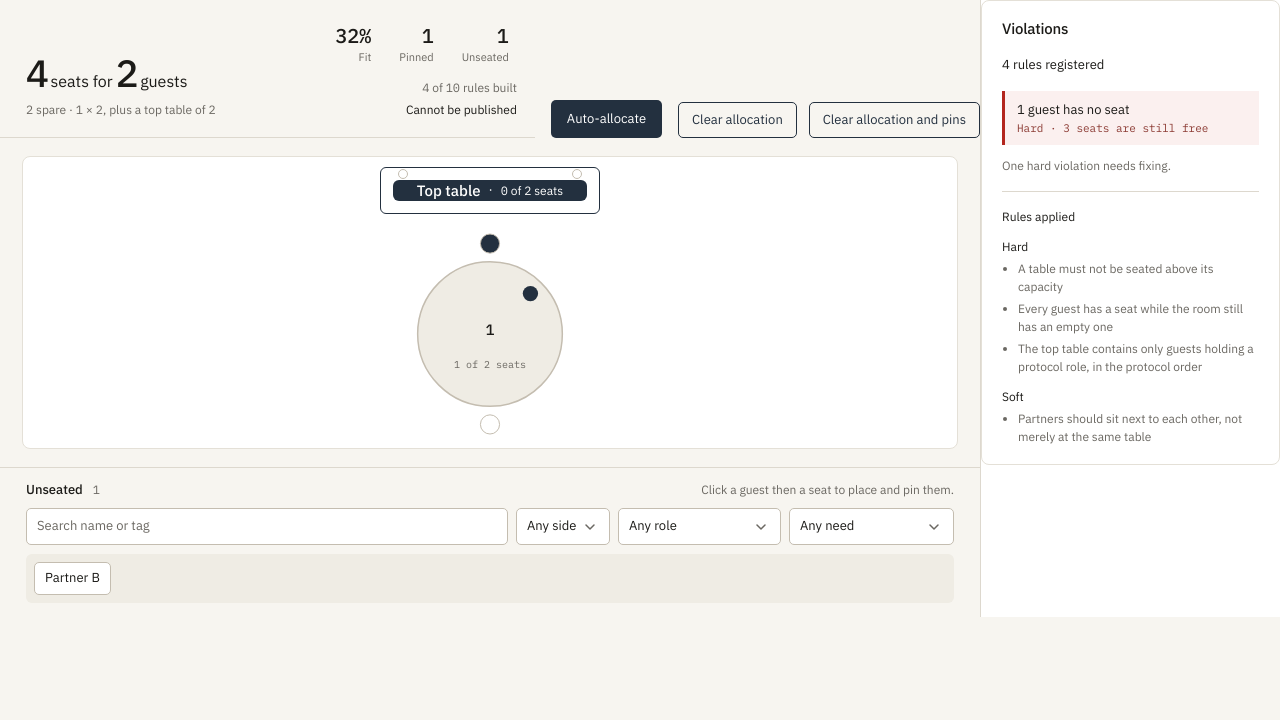
Scenario: placing a guest changes the score shown in the header with no further interaction › placing the second half of a partner pair moves a real, non-null score from 32 toward 100 (TT-46, TT-47, TT-48)
The width and height of the screenshot is (1280, 720).
expect the button "32% Fit" is shown: met, box left=327, top=22, right=379, bottom=71
Step 1. Click the button "Partner B" → (72, 579), box left=34, top=562, right=111, bottom=595
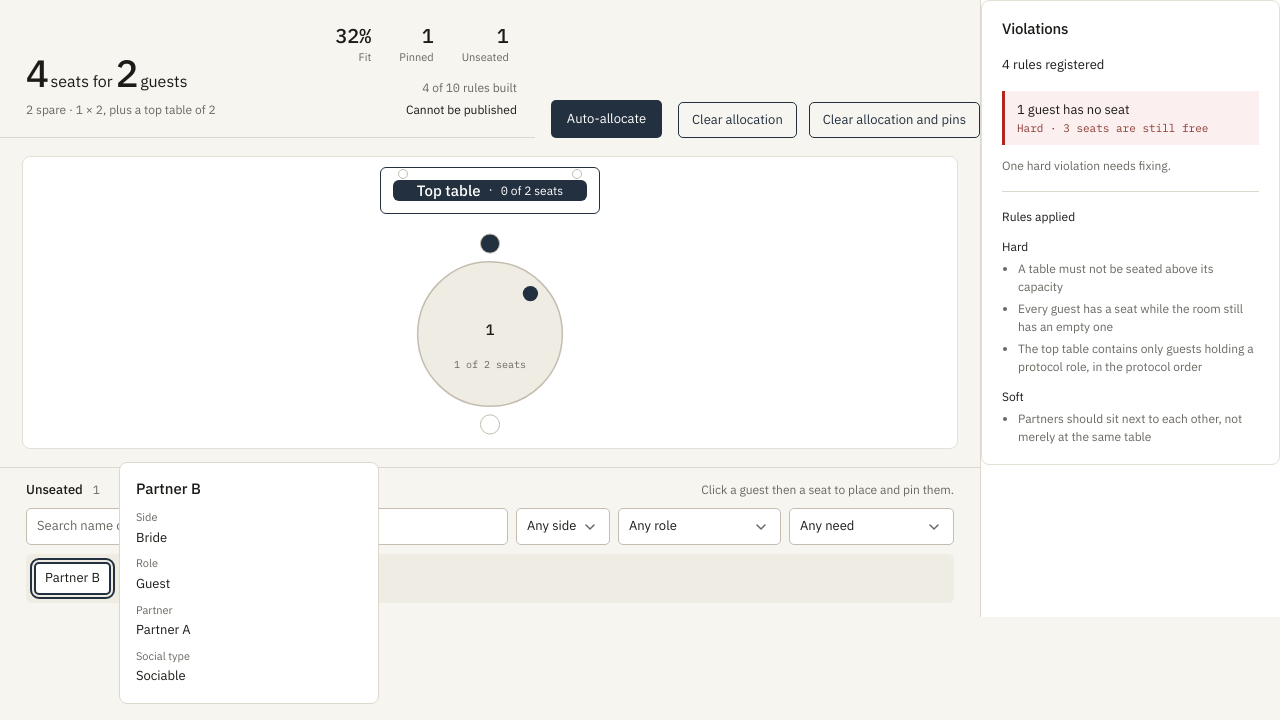
Step 2. Click the button named "Place Partner B at Table 1" → (490, 334), box left=390, top=234, right=590, bottom=434
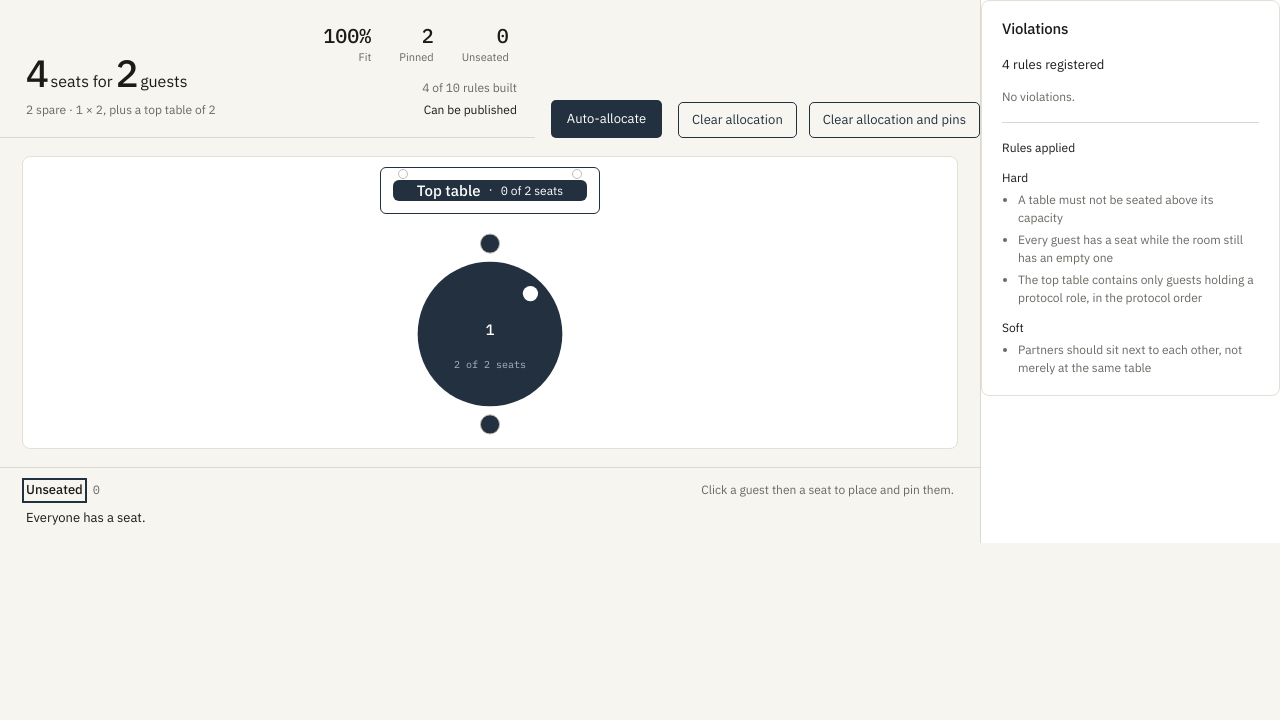
expect the button "100% Fit" is shown: met, box left=315, top=22, right=379, bottom=71
